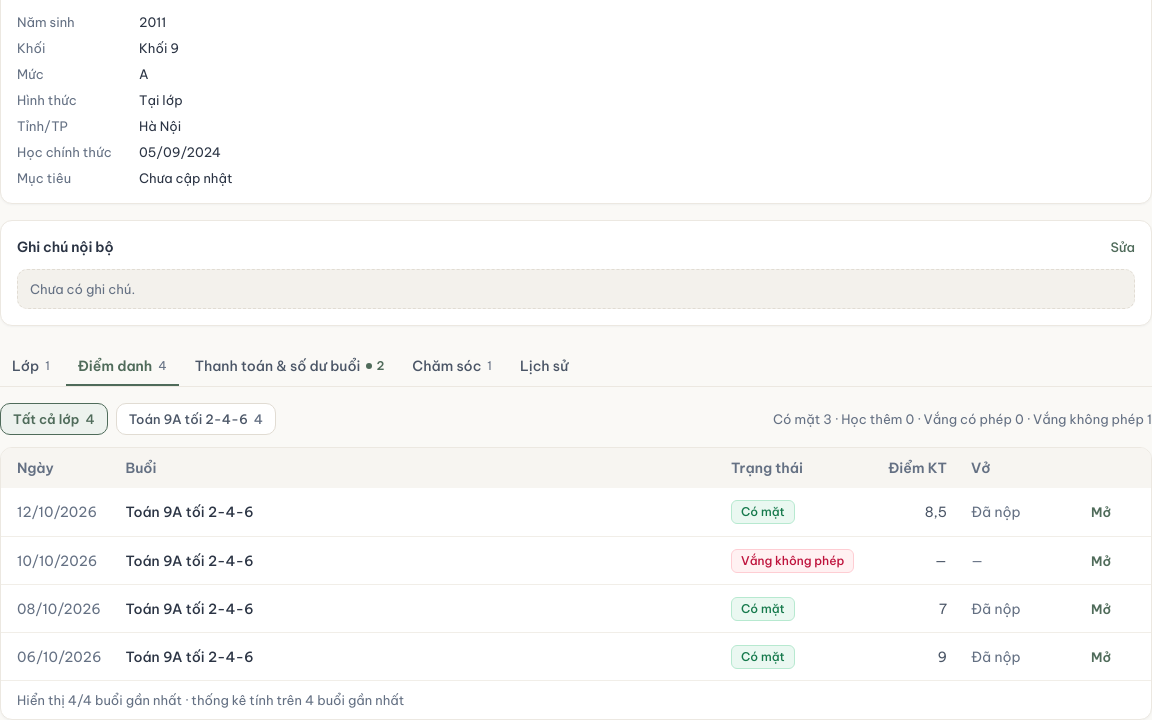
Test case: Student profile feed states and permissions (review fixes) › notes when attendance and payment totals cover only the newest rows
(page scrolled)
Expected: the text "thống kê tính trên 4 buổi gần nhất" is shown, [182,692,404,708]
What coordinates should you click on to do the following:
click the tab "Thanh toán & số dư buổi 2"
I would click on:
 (290, 366)
Its box is [183,346,396,386].
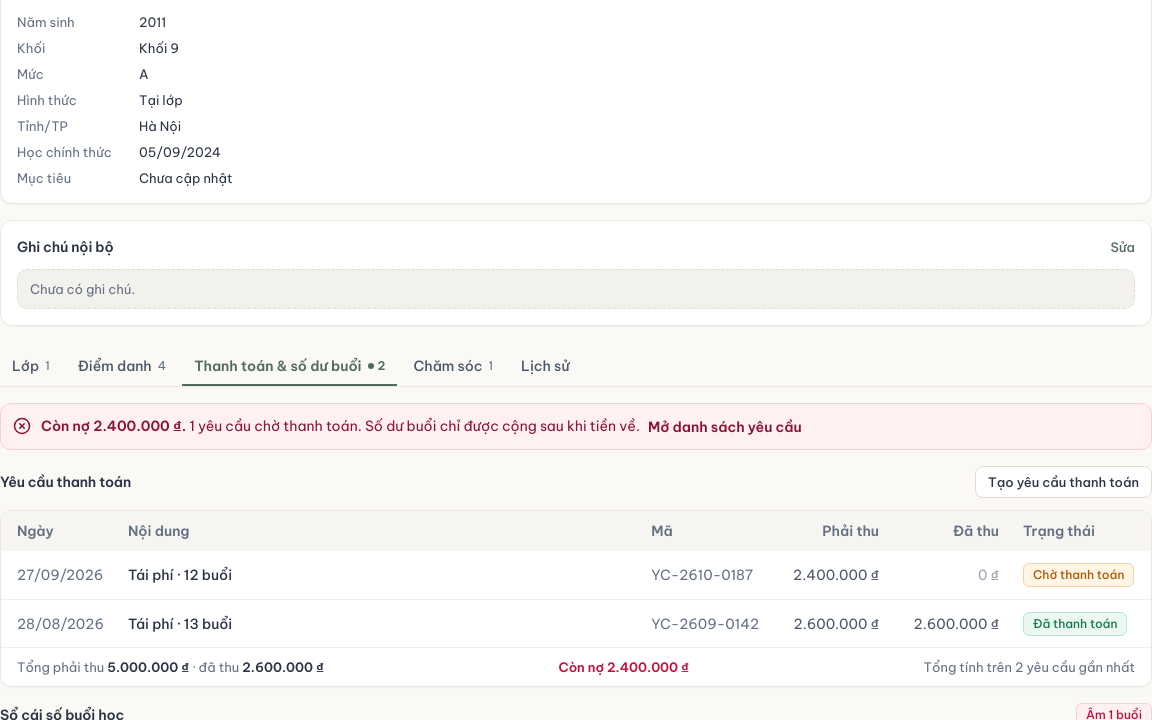
Result: the text "Tổng tính trên 2 yêu cầu gần nhất" is shown at [924,658,1135,676]
